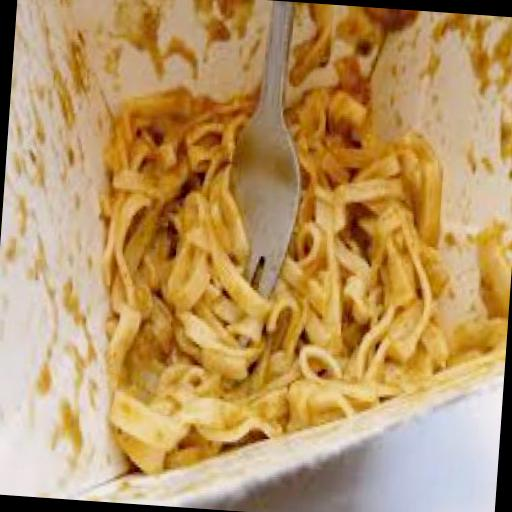biodegradable: (283, 51, 512, 434), (82, 79, 236, 474), (184, 264, 326, 448)
metal: (219, 0, 310, 316)
